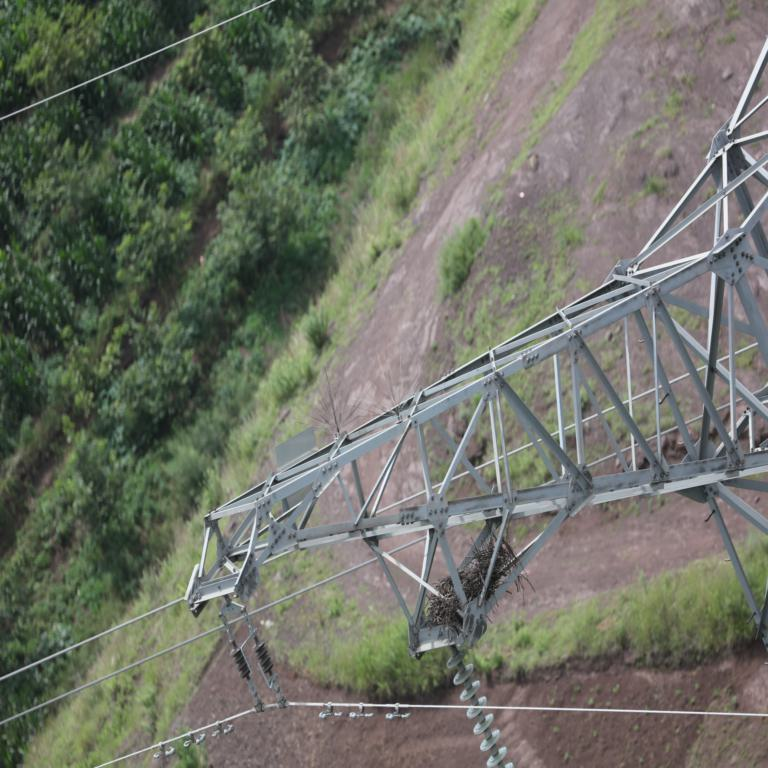nest: (432, 543, 513, 626)
